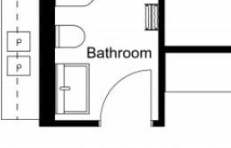door: (97, 58, 156, 140)
